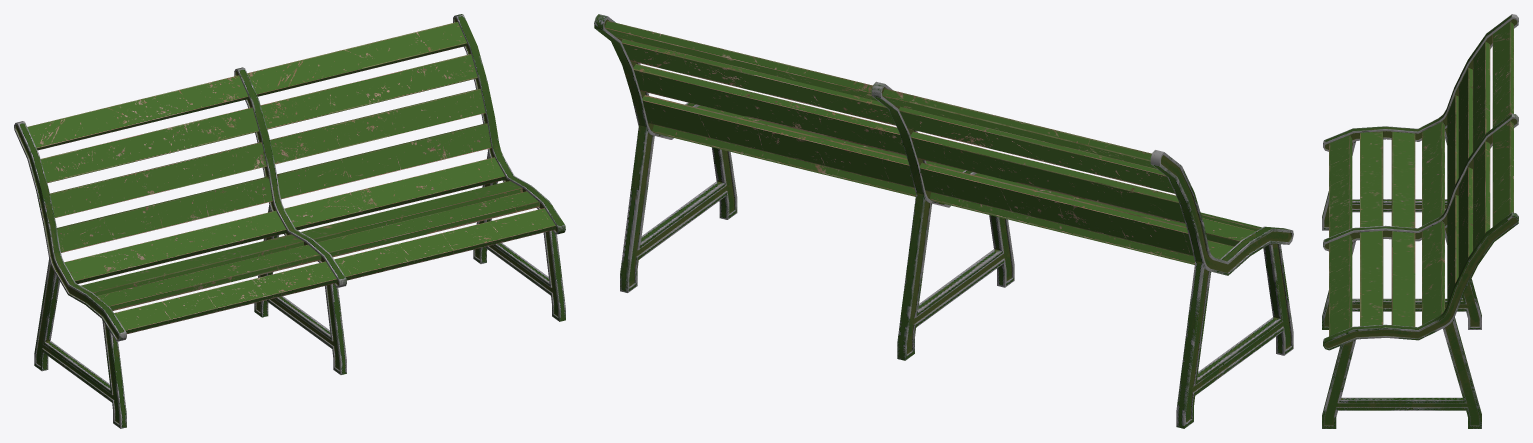
The model's file is SM_ParkBenchProp.fbx.
3 views of the same model, side by side, from view 1: azimuth 30°, elevation 25°; view 2: azimuth 150°, elevation 25°; view 3: azimuth 270°, elevation 25° (orthographic). The views are drawn at different scales.
Parts seen in each view (by area): view 1: SM_ParkBenchProp; view 2: SM_ParkBenchProp; view 3: SM_ParkBenchProp.
Boxes of the visible parts, bbox=[...] form: SM_ParkBenchProp: bbox=[14, 14, 565, 428]; SM_ParkBenchProp: bbox=[594, 14, 1293, 428]; SM_ParkBenchProp: bbox=[1322, 14, 1518, 428].
Size of the model in its own units: 203 by 100 by 83.84.
